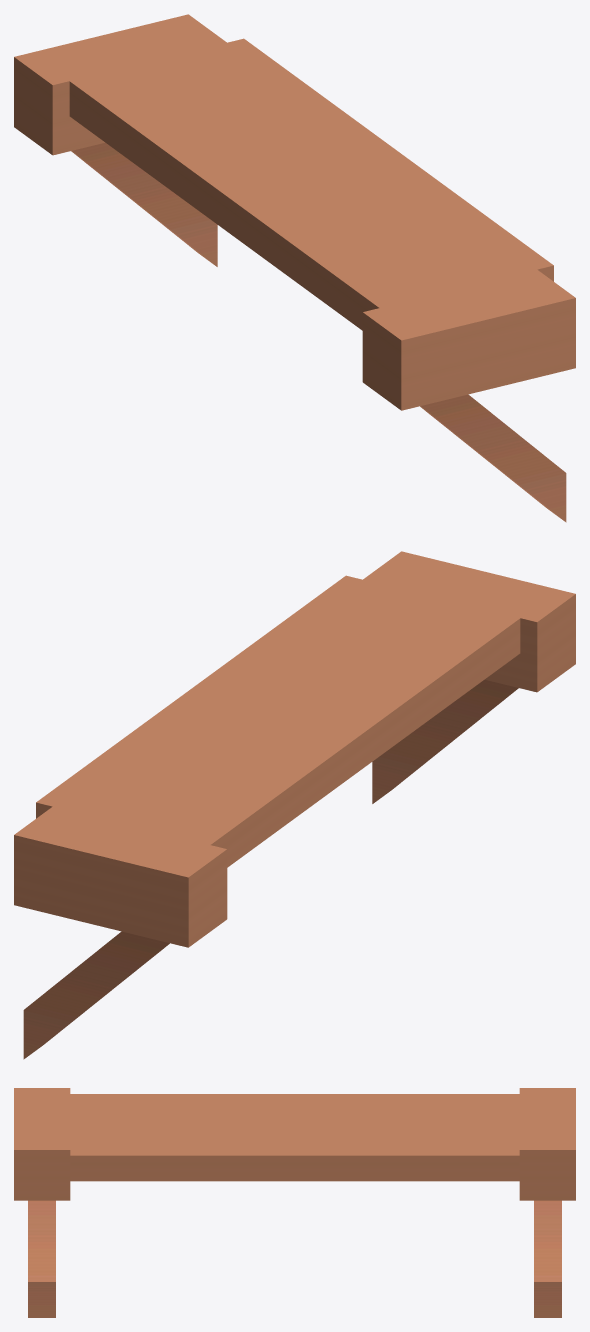
Rendered from overhang.glb.
3 renders of one model, top to bottom at view 1: azimuth 30°, elevation 25°; view 2: azimuth 150°, elevation 25°; view 3: azimuth 270°, elevation 25°, orthographic. The views are drawn at different scales.
Parts seen in each view (by area): view 1: overhang; view 2: overhang; view 3: overhang.
Part boxes in pixels (<box>): overhang: <box>14,14,575,522</box>; overhang: <box>14,551,575,1059</box>; overhang: <box>14,1088,575,1317</box>.
Bounding box in the file's own units: 0.285 × 0.33 × 1.
Materials: 1 (1 with a texture image).
